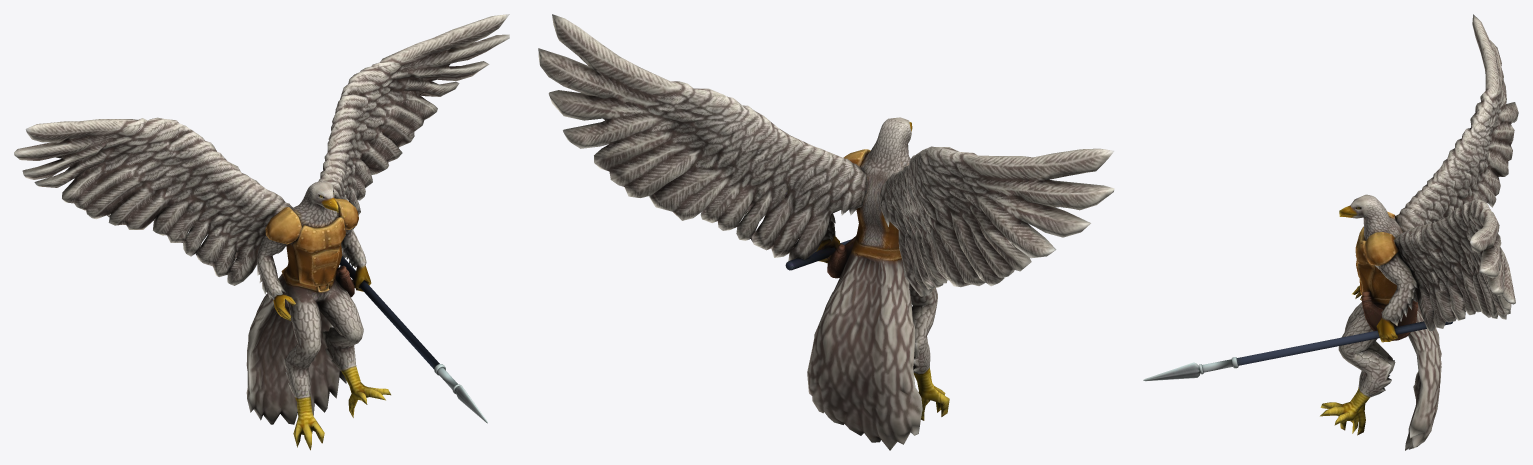
Rendered from Aarakocra.glb.
3 renders of one model, left to right at view 1: azimuth 30°, elevation 25°; view 2: azimuth 150°, elevation 25°; view 3: azimuth 270°, elevation 25°, orthographic. The views are drawn at different scales.
Parts seen in each view (by area): view 1: Wings_low.001, Body_low.001, Spear_low.001; view 2: Wings_low.001, Body_low.001, Waterskin_low.001; view 3: Wings_low.001, Body_low.001, Spear_low.001, Waterskin_low.001.
Boxes of the visible parts, x1,y1,x2,y2 form: Wings_low.001: (14,14,509,285); Body_low.001: (246,181,390,450); Spear_low.001: (339,256,487,423); Wings_low.001: (538,14,1114,296); Body_low.001: (807,117,949,450); Waterskin_low.001: (827,236,855,278); Wings_low.001: (1394,14,1518,330); Body_low.001: (1320,194,1441,450); Spear_low.001: (1143,321,1452,381); Waterskin_low.001: (1361,291,1417,340).
Bounding box in the file's own units: 8.78 × 5.63 × 6.01.
Materials: 1 (1 with a texture image).
